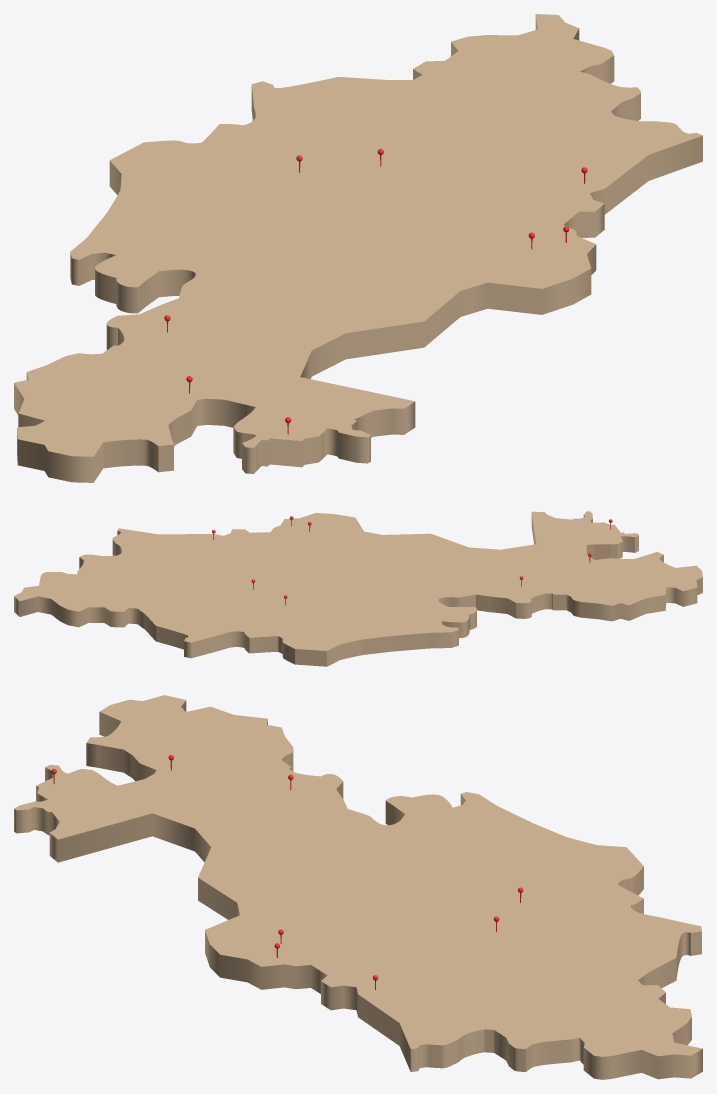
Rendered from kz_map-main.glb.
3 renders of one model, top to bottom at view 1: azimuth 30°, elevation 25°; view 2: azimuth 150°, elevation 25°; view 3: azimuth 270°, elevation 25°, orthographic. The views are drawn at different scales.
Parts seen in each view (by area): view 1: map; view 2: map; view 3: map.
Part boxes in pixels (bbox=[...]): map: bbox=[14, 14, 702, 482]; map: bbox=[14, 511, 702, 666]; map: bbox=[14, 695, 702, 1079].
Size of what is drawn, in the model's own units: 6.87 by 0.3363 by 5.52.
